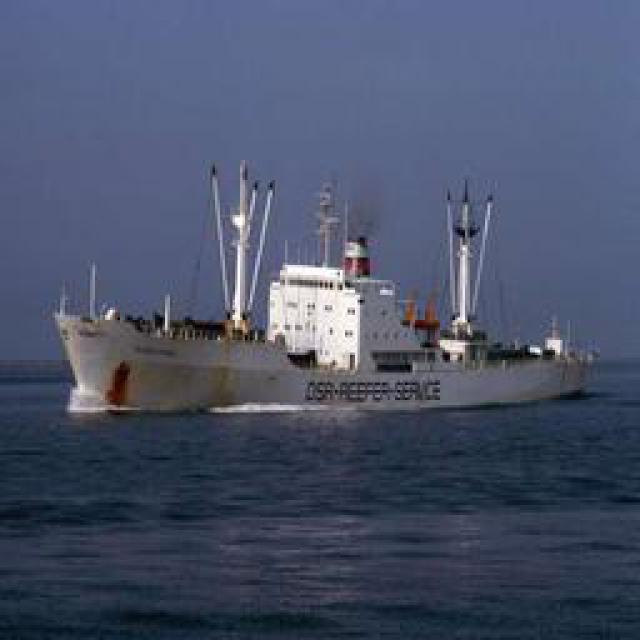Ship: (56, 166, 596, 414)
